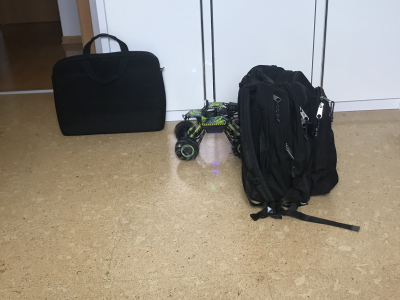remote control car: (167, 95, 244, 161)
